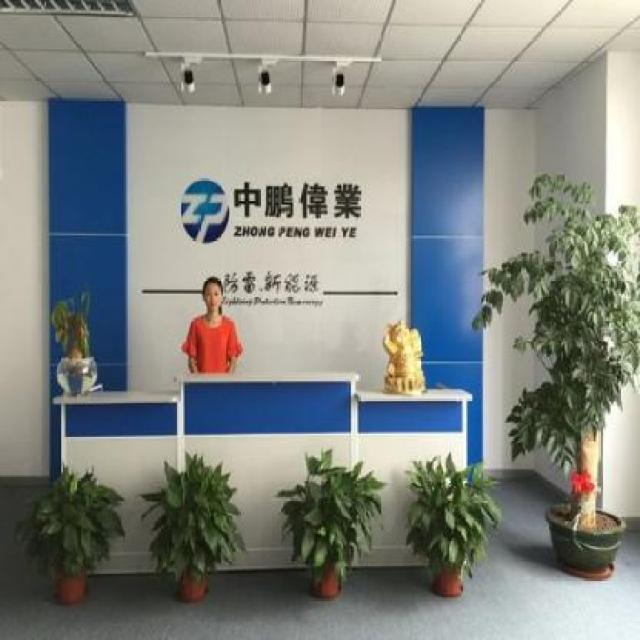frontdesk: (48, 356, 478, 592)
